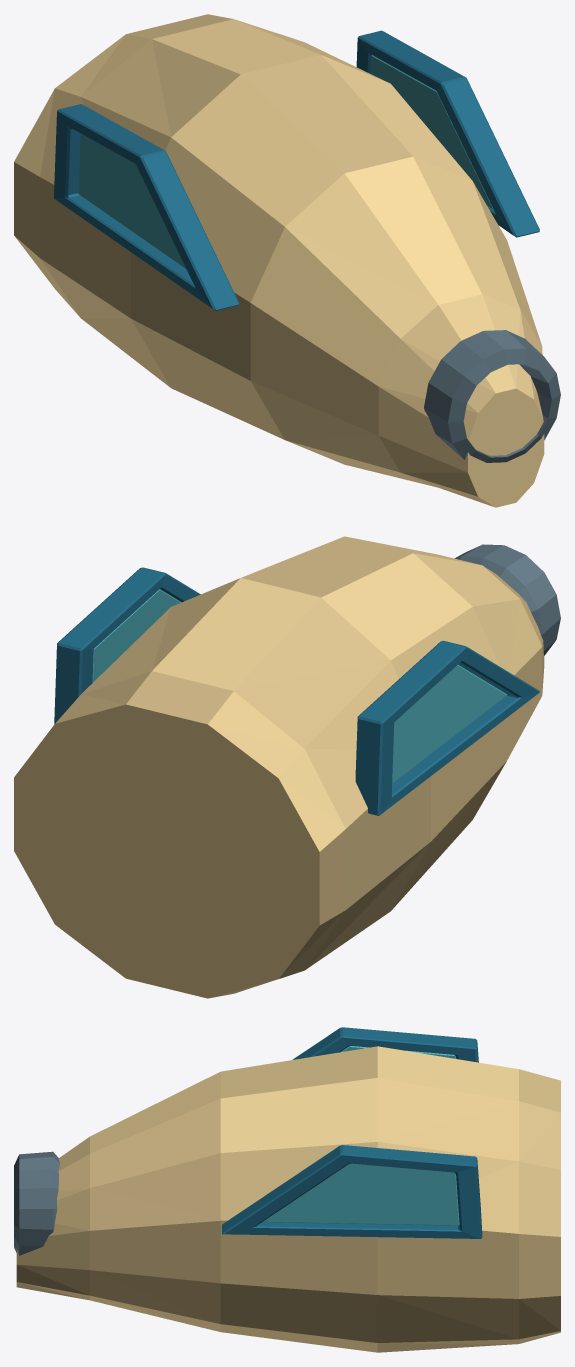
File: EA_UtilityNose.fbx
3 views of the same model, one above another, from view 1: azimuth 30°, elevation 25°; view 2: azimuth 150°, elevation 25°; view 3: azimuth 270°, elevation 25° (orthographic). The views are drawn at different scales.
Visible parts, largest first — view 1: EA_UtilityNose; view 2: EA_UtilityNose; view 3: EA_UtilityNose.
Part boxes in pixels (x1,y1,x2,y2): EA_UtilityNose: (14, 14, 560, 507); EA_UtilityNose: (14, 536, 560, 998); EA_UtilityNose: (14, 1027, 560, 1352).
Size of the model in its own units: 0.578 by 0.5796 by 1.04.
